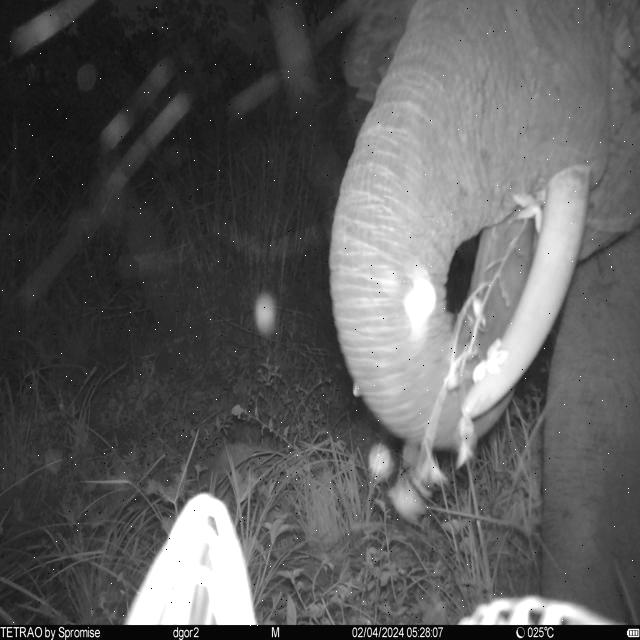elephant: (327, 1, 640, 610)
tusk: (459, 164, 596, 426)
